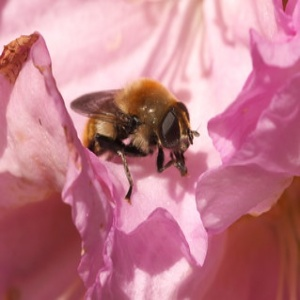bee: (71, 78, 206, 203)
